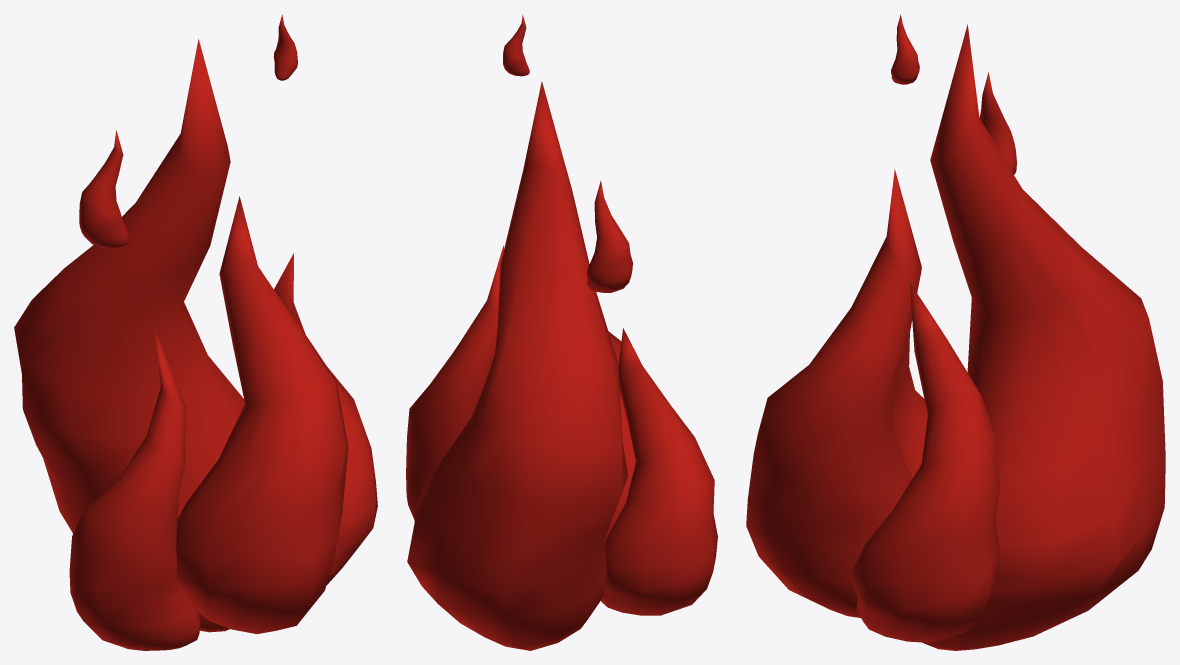
File: FIRE_ROCK.fbx
The picture shows the model from 3 angles, left to right: view 1: azimuth 30°, elevation 25°; view 2: azimuth 150°, elevation 25°; view 3: azimuth 270°, elevation 25°; orthographic projection. The views are drawn at different scales.
Parts seen in each view (by area): view 1: FIRE_ROCK; view 2: FIRE_ROCK; view 3: FIRE_ROCK.
Part boxes in pixels (left/top/right/bottom): FIRE_ROCK: left=14, top=14, right=377, bottom=650; FIRE_ROCK: left=406, top=14, right=717, bottom=650; FIRE_ROCK: left=746, top=14, right=1165, bottom=650.
Bounding box in the file's own units: 252 × 491 × 287.
